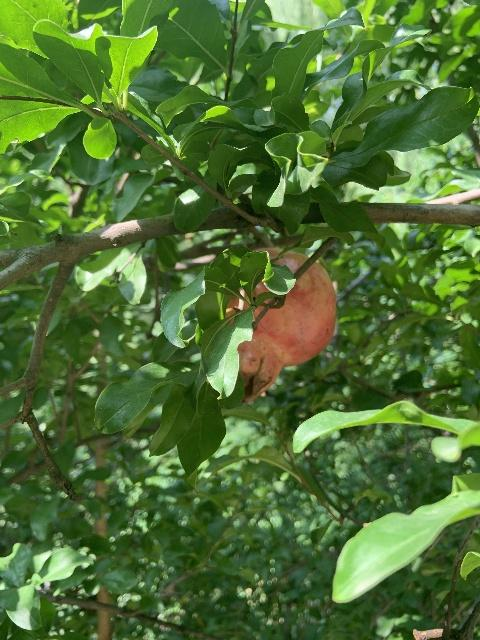ripe: (225, 248, 336, 403)
